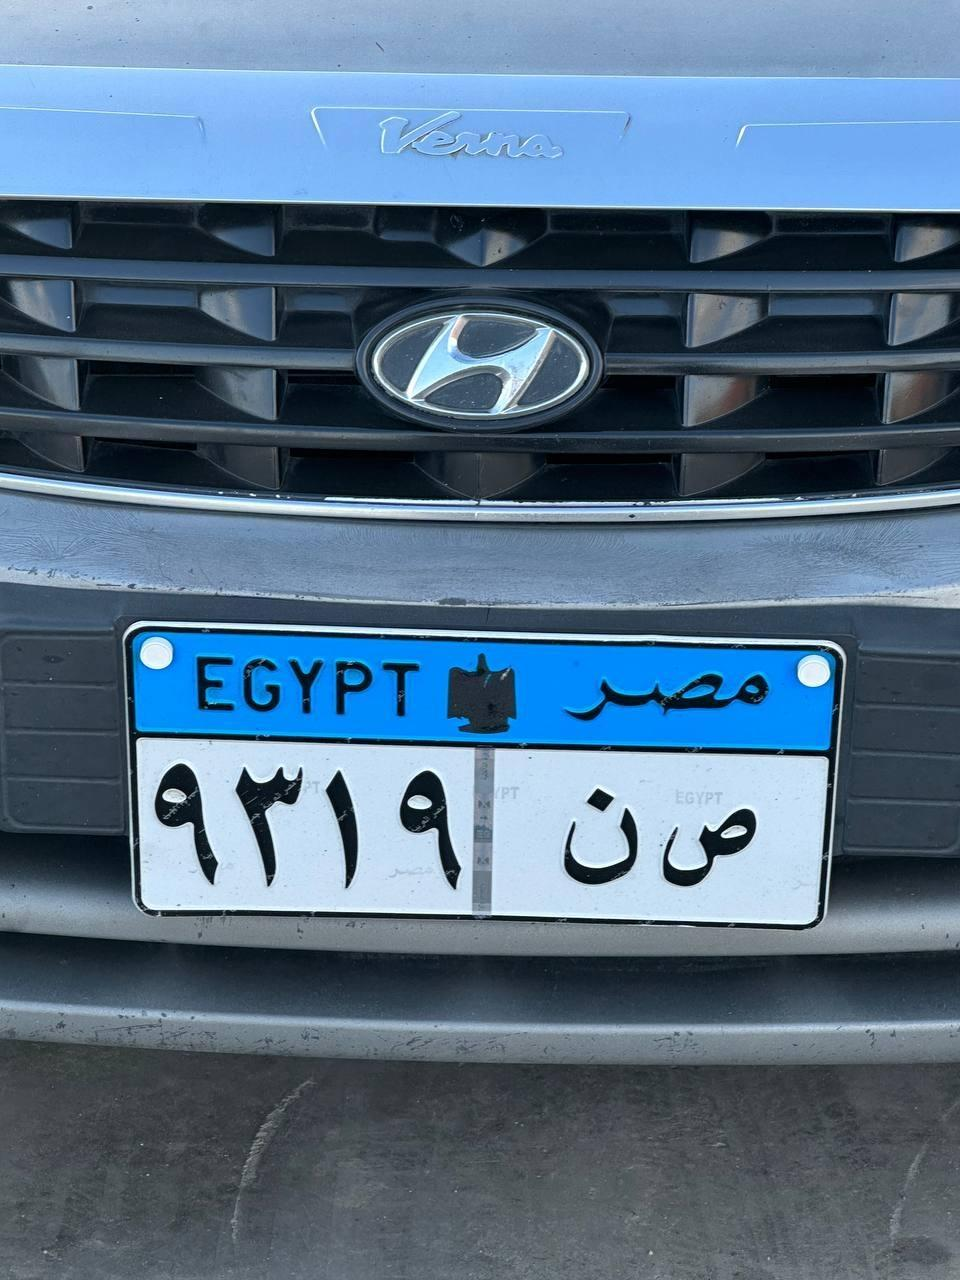1: (326, 762, 378, 886)
3: (234, 762, 306, 895)
9: (394, 758, 474, 898), (154, 760, 226, 884)
License Plate: (118, 617, 852, 937)
Saad: (659, 800, 759, 887)
